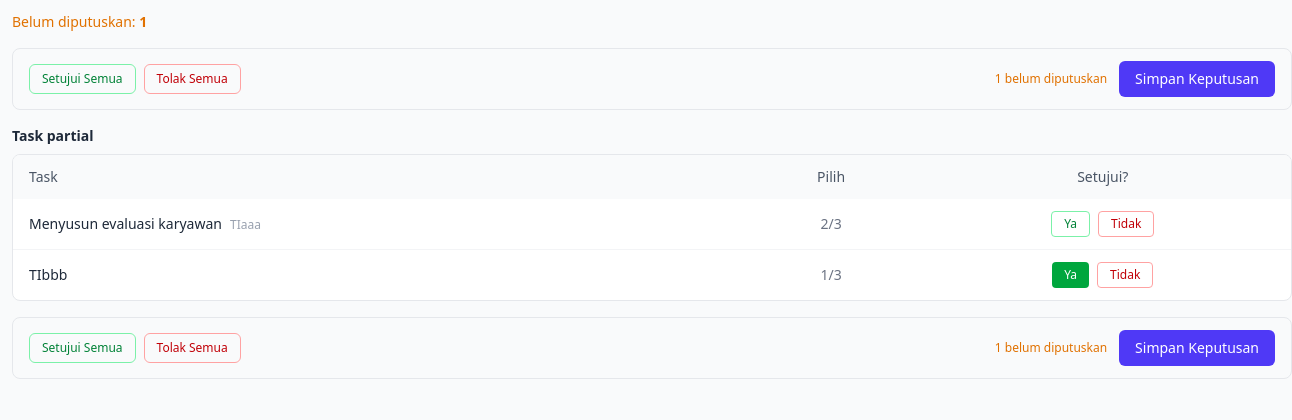
Test: ReviewForm — regresi: sukses Tahap 2 tidak boleh senyap › POST gagal: toast.error dipanggil dan error inline tampil
Step 1. Click the button "Ya" in the row of "Menyusun evaluasi karyawan" → point(1071, 224), box [1051,211,1090,237]
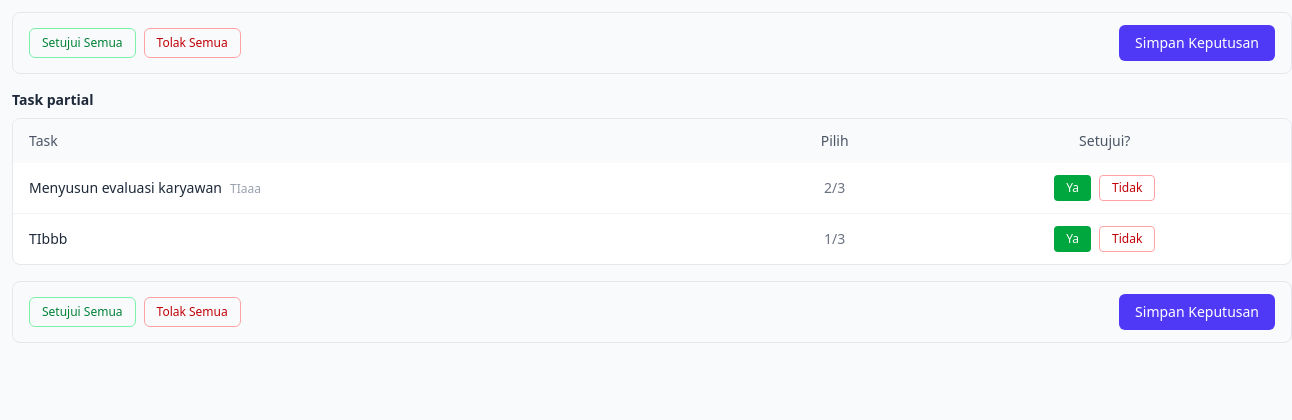
Step 2. Click the 1st button "Simpan Keputusan" → point(1197, 43), box [1119,25,1275,61]
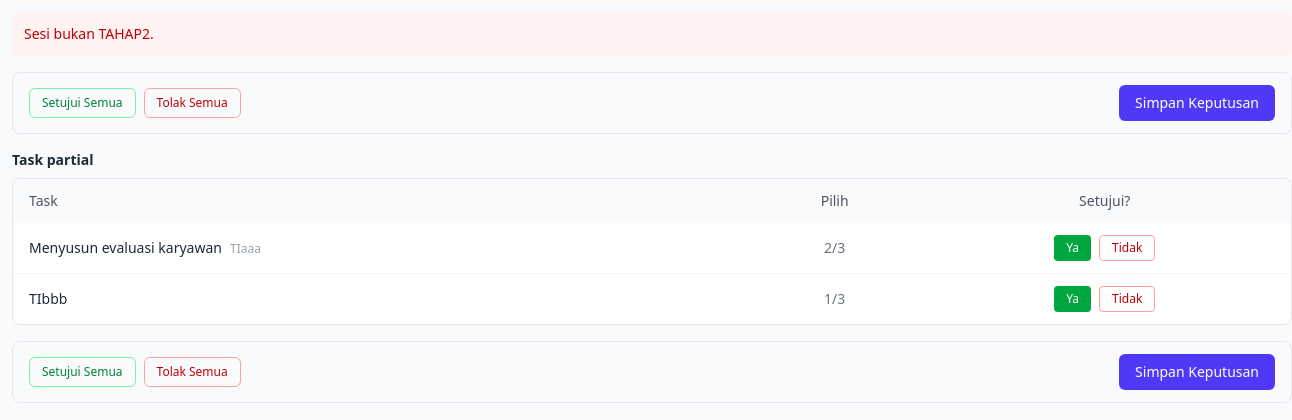
expect the message reads "Sesi bukan TAHAP2.": met, box [24,24,154,43]
